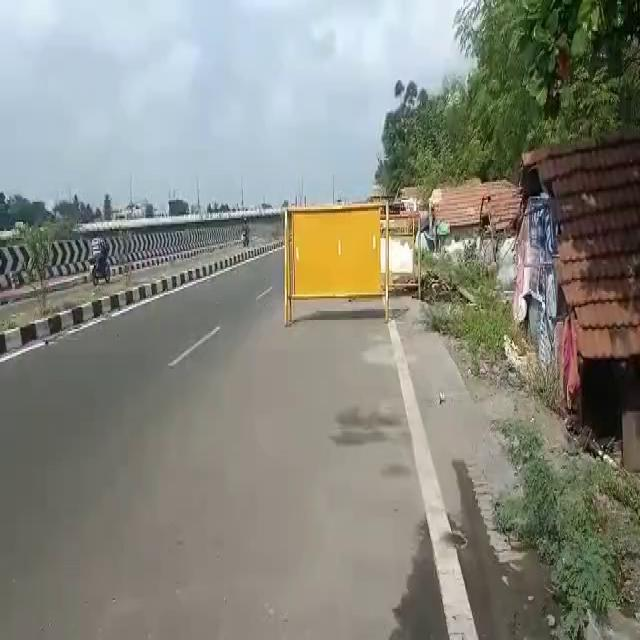fallen_object: (273, 203, 406, 332)
